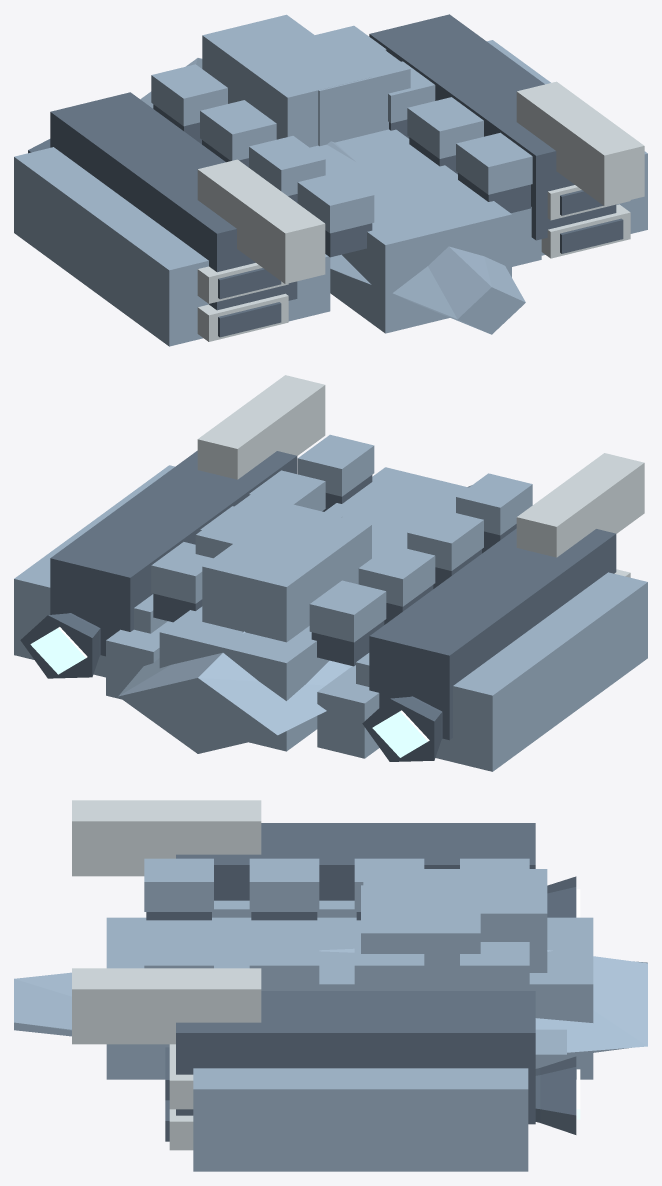
The picture shows the model from 3 angles, top to bottom: view 1: azimuth 30°, elevation 25°; view 2: azimuth 150°, elevation 25°; view 3: azimuth 270°, elevation 25°; orthographic projection. The views are drawn at different scales.
Bounding box in the file's own units: 18.13 × 6.2 × 19.28.
